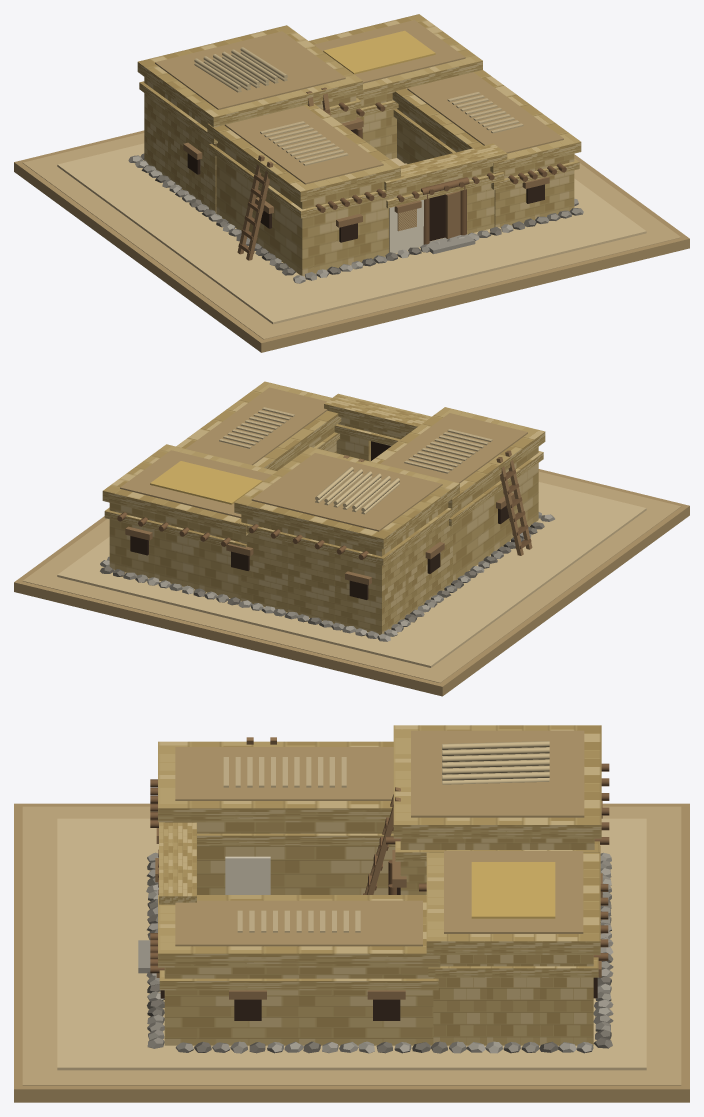
Rendered from civic-neolithic-village-houses-built.glb.
3 views of the same model, one above another, from view 1: azimuth 30°, elevation 25°; view 2: azimuth 150°, elevation 25°; view 3: azimuth 270°, elevation 25° (orthographic). The views are drawn at different scales.
Bounding box in the file's own units: 19.5 × 5.17 × 19.5.
Materials: 27 (9 with a texture image).
